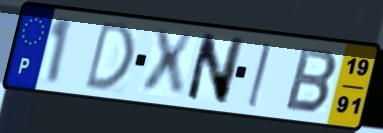1: (46, 15, 74, 87)
B: (282, 45, 340, 116)
D: (81, 18, 137, 92)
I: (244, 40, 274, 110)
N: (182, 31, 247, 108)
X: (139, 28, 197, 99)
